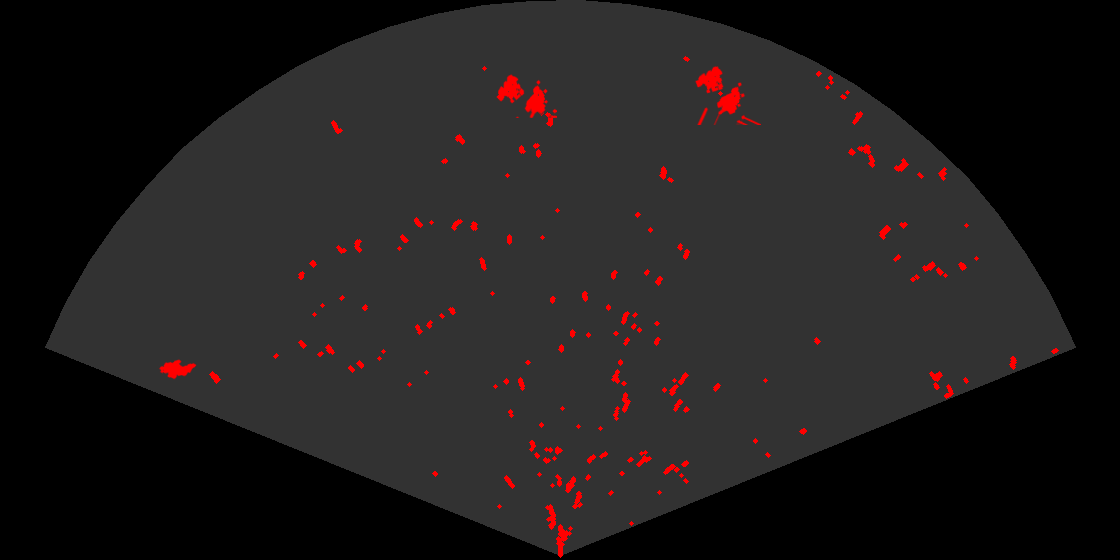AUV: (157, 358, 198, 381)
cage: (693, 65, 761, 125), (495, 73, 557, 118)
